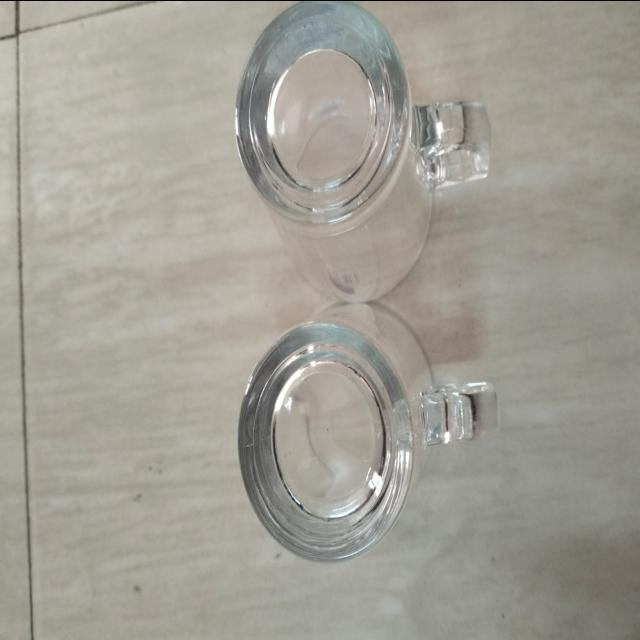glass-VX4N: (230, 0, 499, 288), (234, 304, 502, 558)
